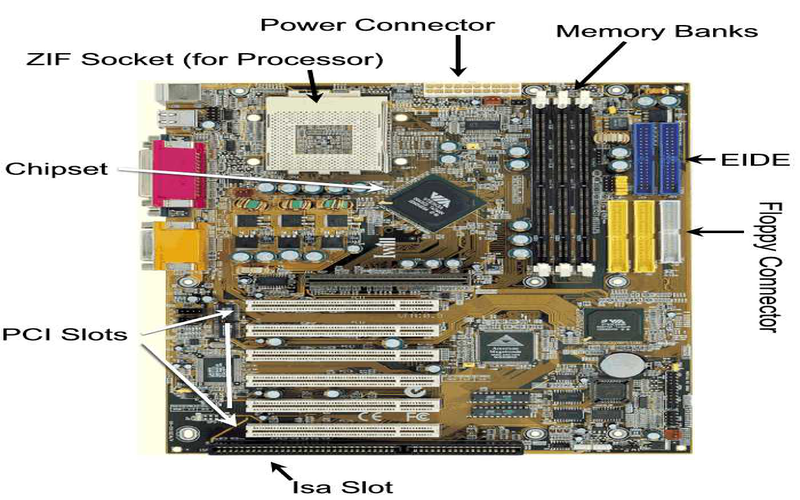Cirtuit-Board: (129, 64, 715, 457)
